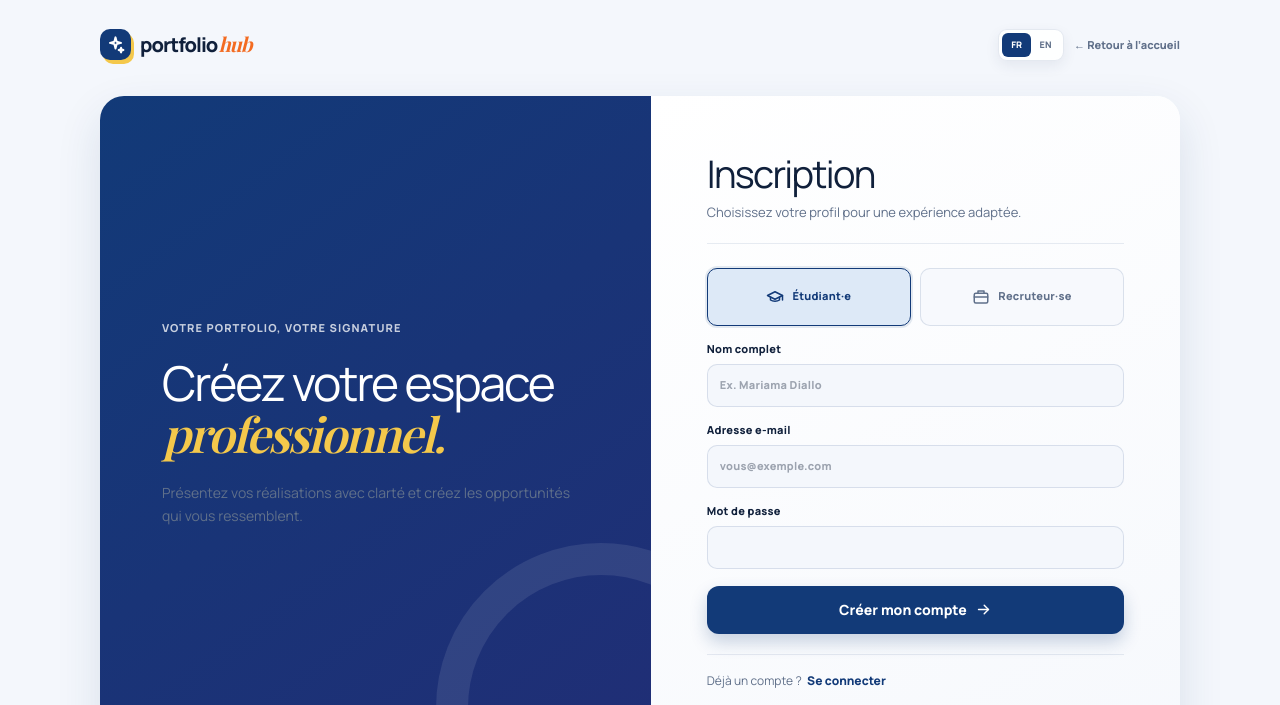
Test: sign-up flow › rejects an existing email before any account-creation request
Type "Nora Blanc" into the field labelled "Nom complet" at (915, 385), box [707,364,1124,406]
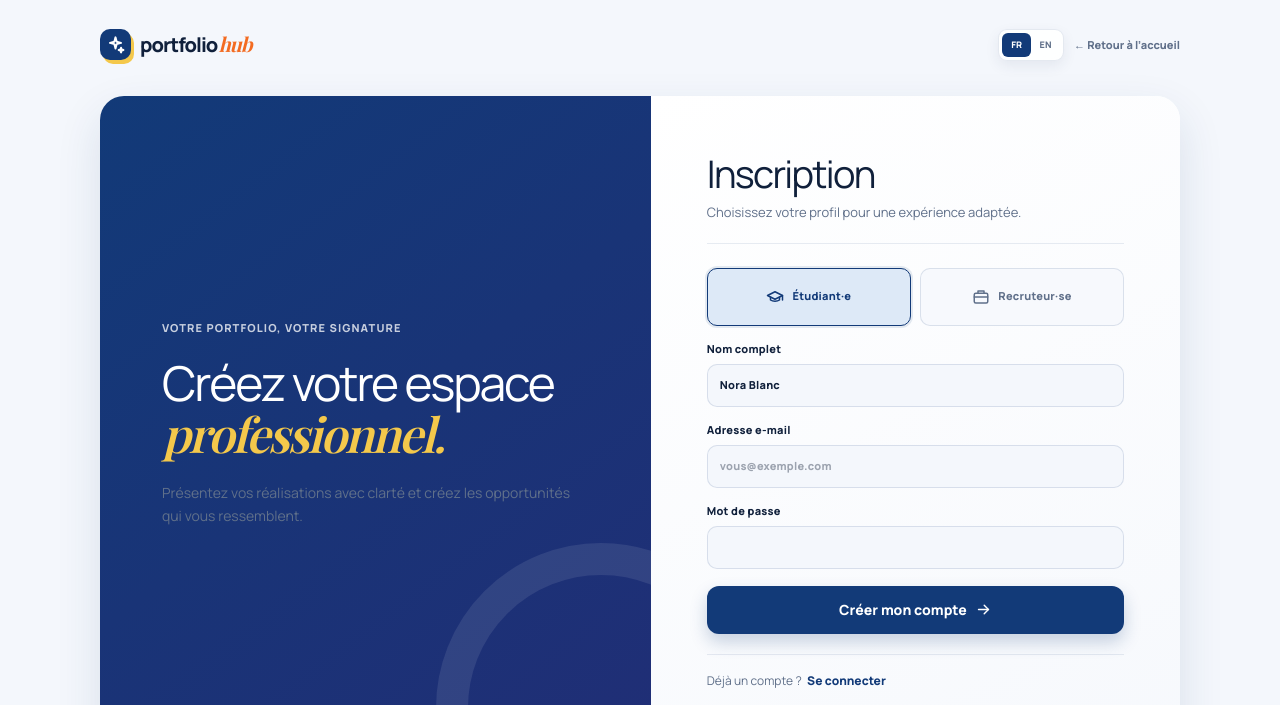
Type "used@portfolio.test" into the field labelled "Adresse e-mail" at (915, 466), box [707,445,1124,488]
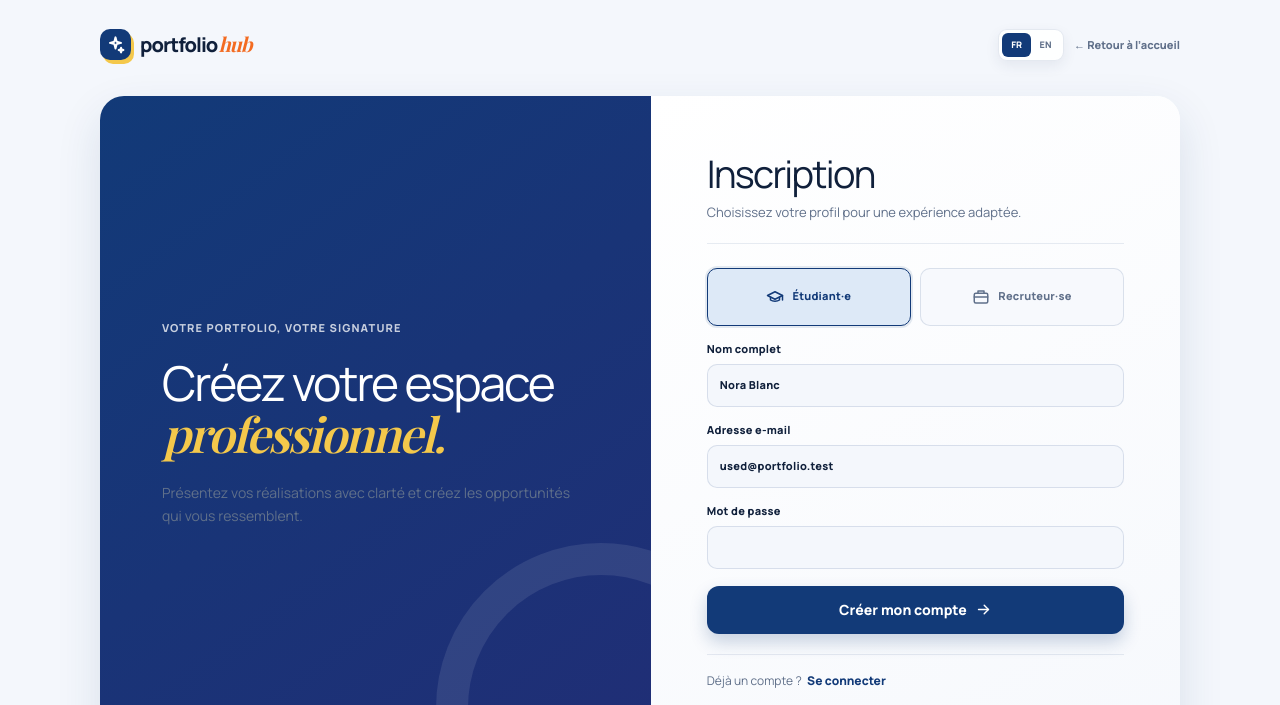
Type "secret1" into the password field labelled "Mot de passe" at (915, 547), box [707,526,1124,568]
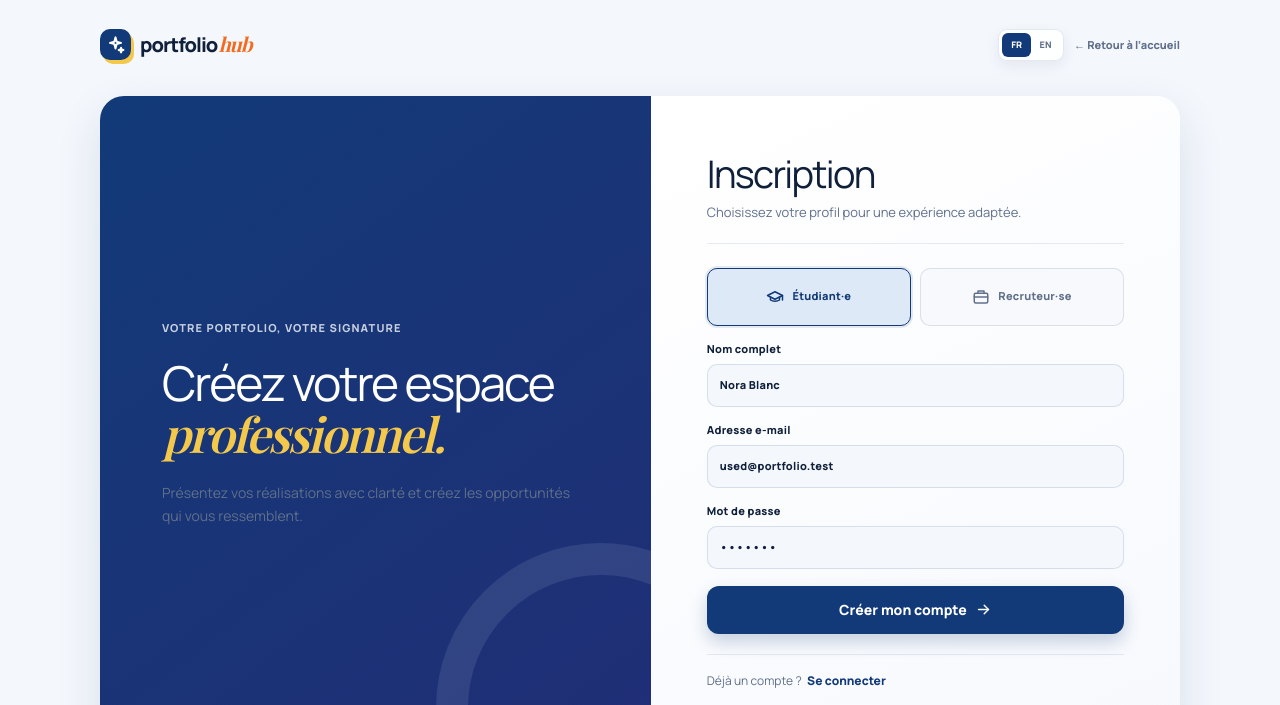
Click the button "Créer mon compte" at (915, 610), box [707,586,1124,634]
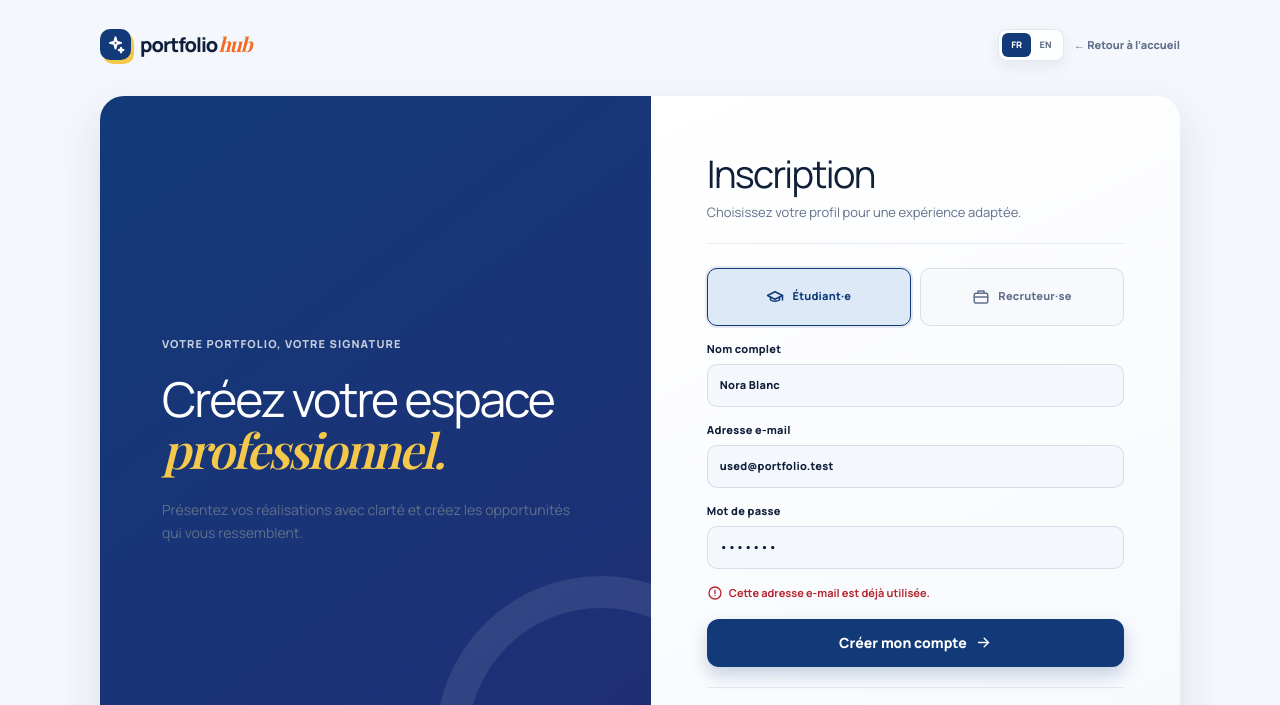
expect the text "Cette adresse e-mail est déjà utilisée." is shown: met, box [707,584,930,601]
